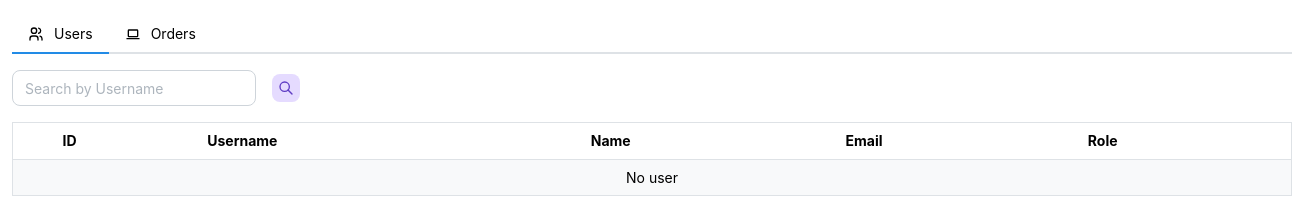
AdminTab › switches to Orders panel when Orders tab is clicked
The image size is (1292, 213).
Click the tab "Orders" at (160, 35), box [109, 16, 212, 54]
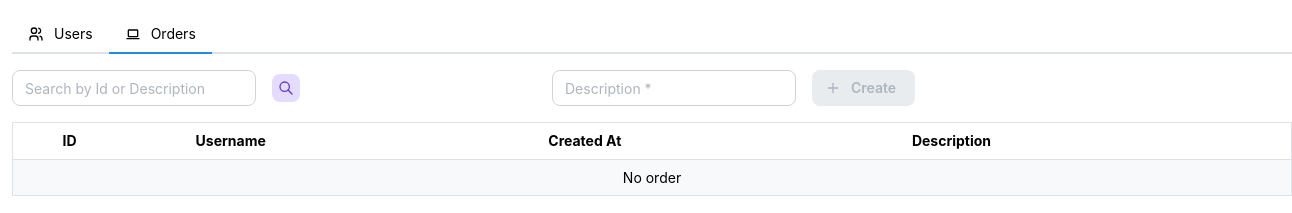
Check: the text "No order" is shown, box [12, 159, 1291, 196]
